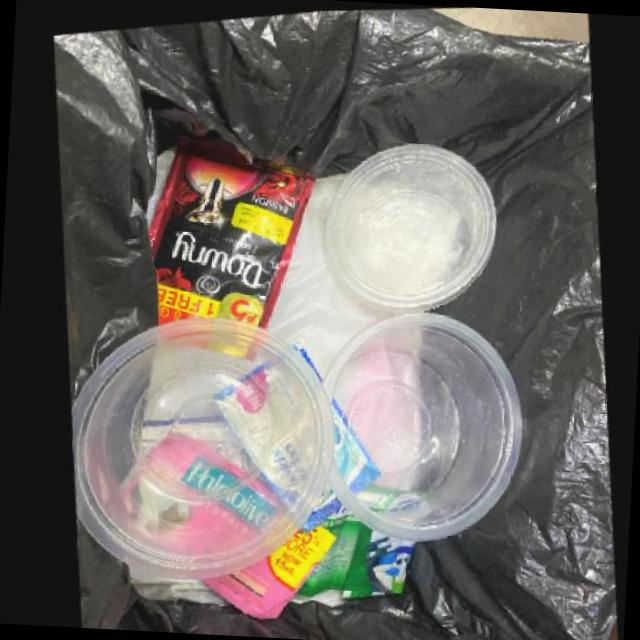goi_nhua_nho: (153, 129, 321, 322), (204, 520, 339, 613), (299, 493, 416, 595)
hop_nhua: (75, 309, 338, 572), (327, 308, 526, 538), (329, 140, 501, 310)
